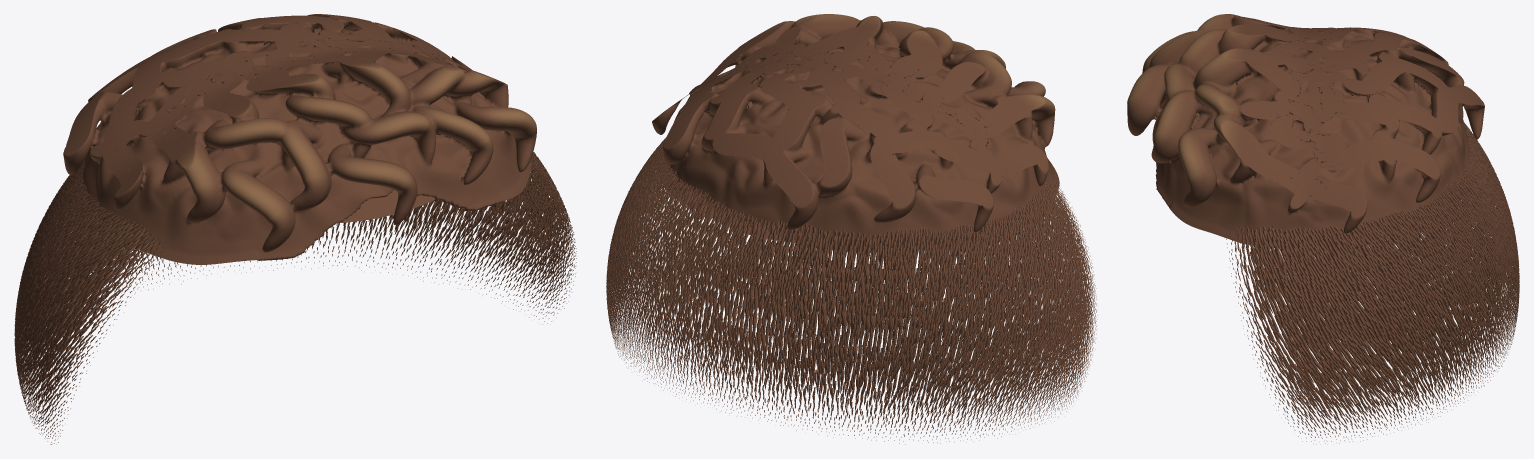
Rendered from Masculine-curly-top-pashmina254-hair-ombre.glb.
3 views of the same model, side by side, from view 1: azimuth 30°, elevation 25°; view 2: azimuth 150°, elevation 25°; view 3: azimuth 270°, elevation 25° (orthographic). The views are drawn at different scales.
Parts seen in each view (by area): view 1: 226 hair / Hair252 / sculpted curl groups, 226 hair / Hair254 / rooted short groom; view 2: 226 hair / Hair254 / rooted short groom, 226 hair / Hair252 / sculpted curl groups; view 3: 226 hair / Hair252 / sculpted curl groups, 226 hair / Hair254 / rooted short groom.
Part boxes in pixels (box(x1,y1,x2,y2)): 226 hair / Hair252 / sculpted curl groups: box(63, 14, 536, 264); 226 hair / Hair254 / rooted short groom: box(14, 152, 576, 444); 226 hair / Hair254 / rooted short groom: box(606, 138, 1097, 444); 226 hair / Hair252 / sculpted curl groups: box(652, 14, 1059, 252); 226 hair / Hair252 / sculpted curl groups: box(1127, 14, 1484, 247); 226 hair / Hair254 / rooted short groom: box(1152, 121, 1519, 444).
Size of the model in its own units: 0.9716 by 0.6354 by 0.7501.
